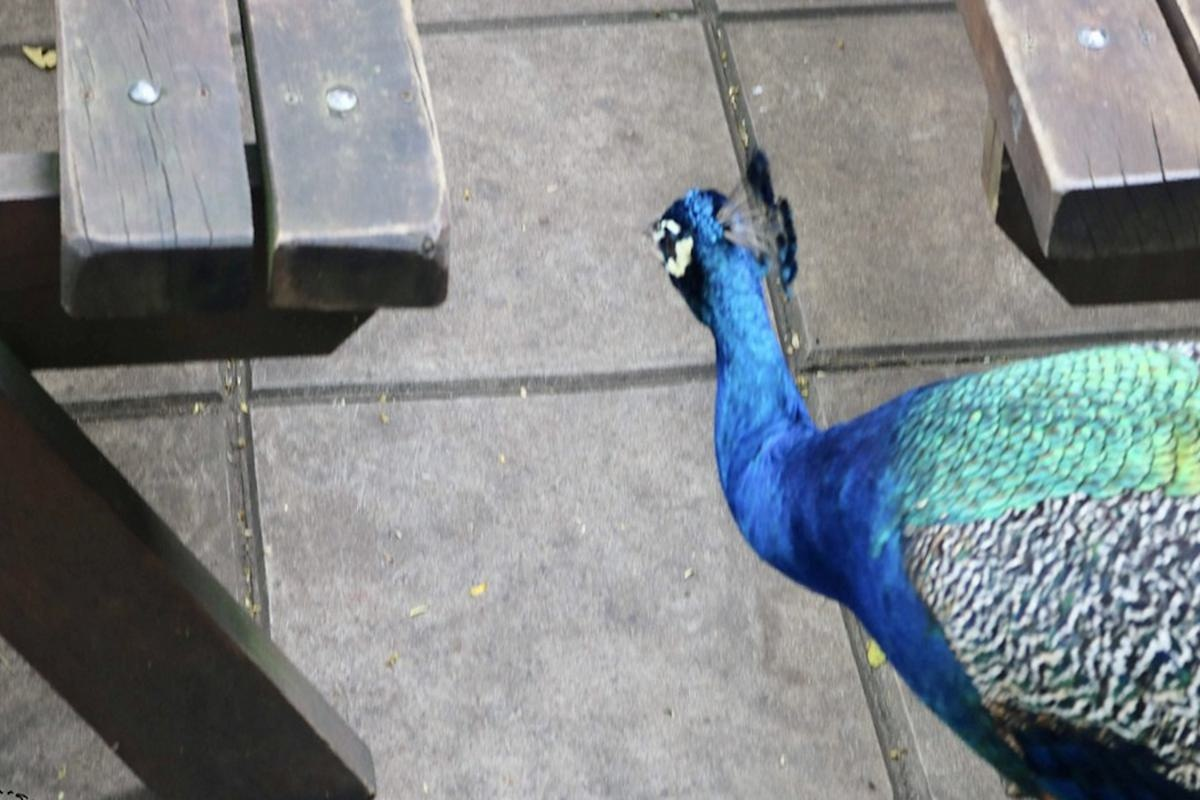peacock: (627, 155, 1200, 795)
